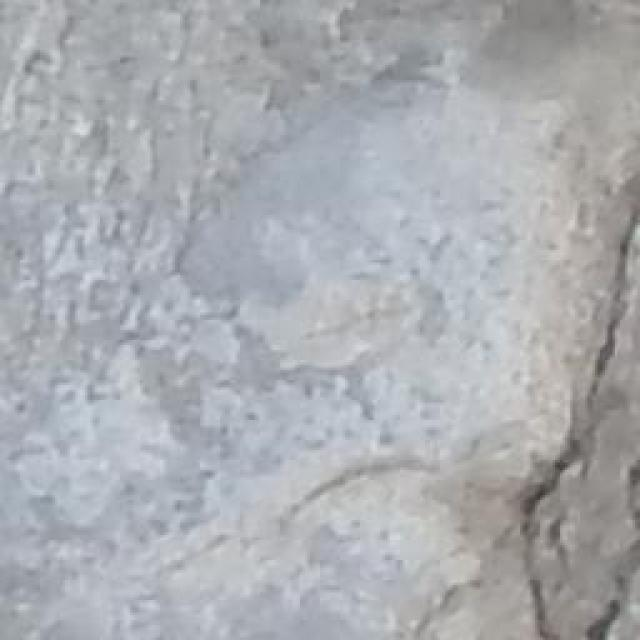concrete-crack: (518, 211, 640, 640), (585, 589, 625, 640)
